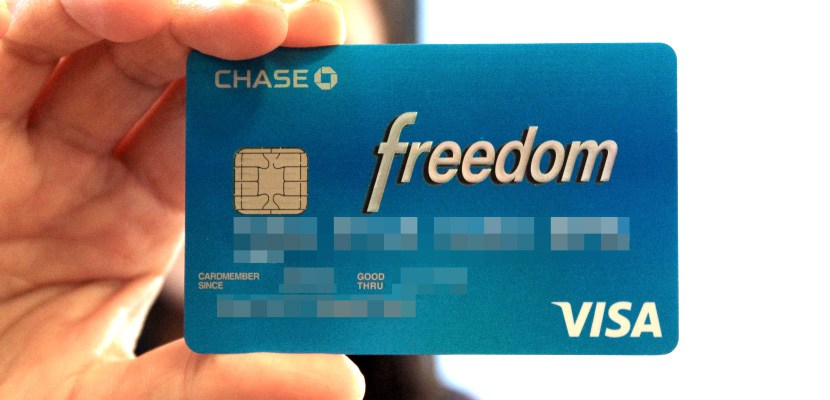tarjeta: (183, 42, 681, 357)
